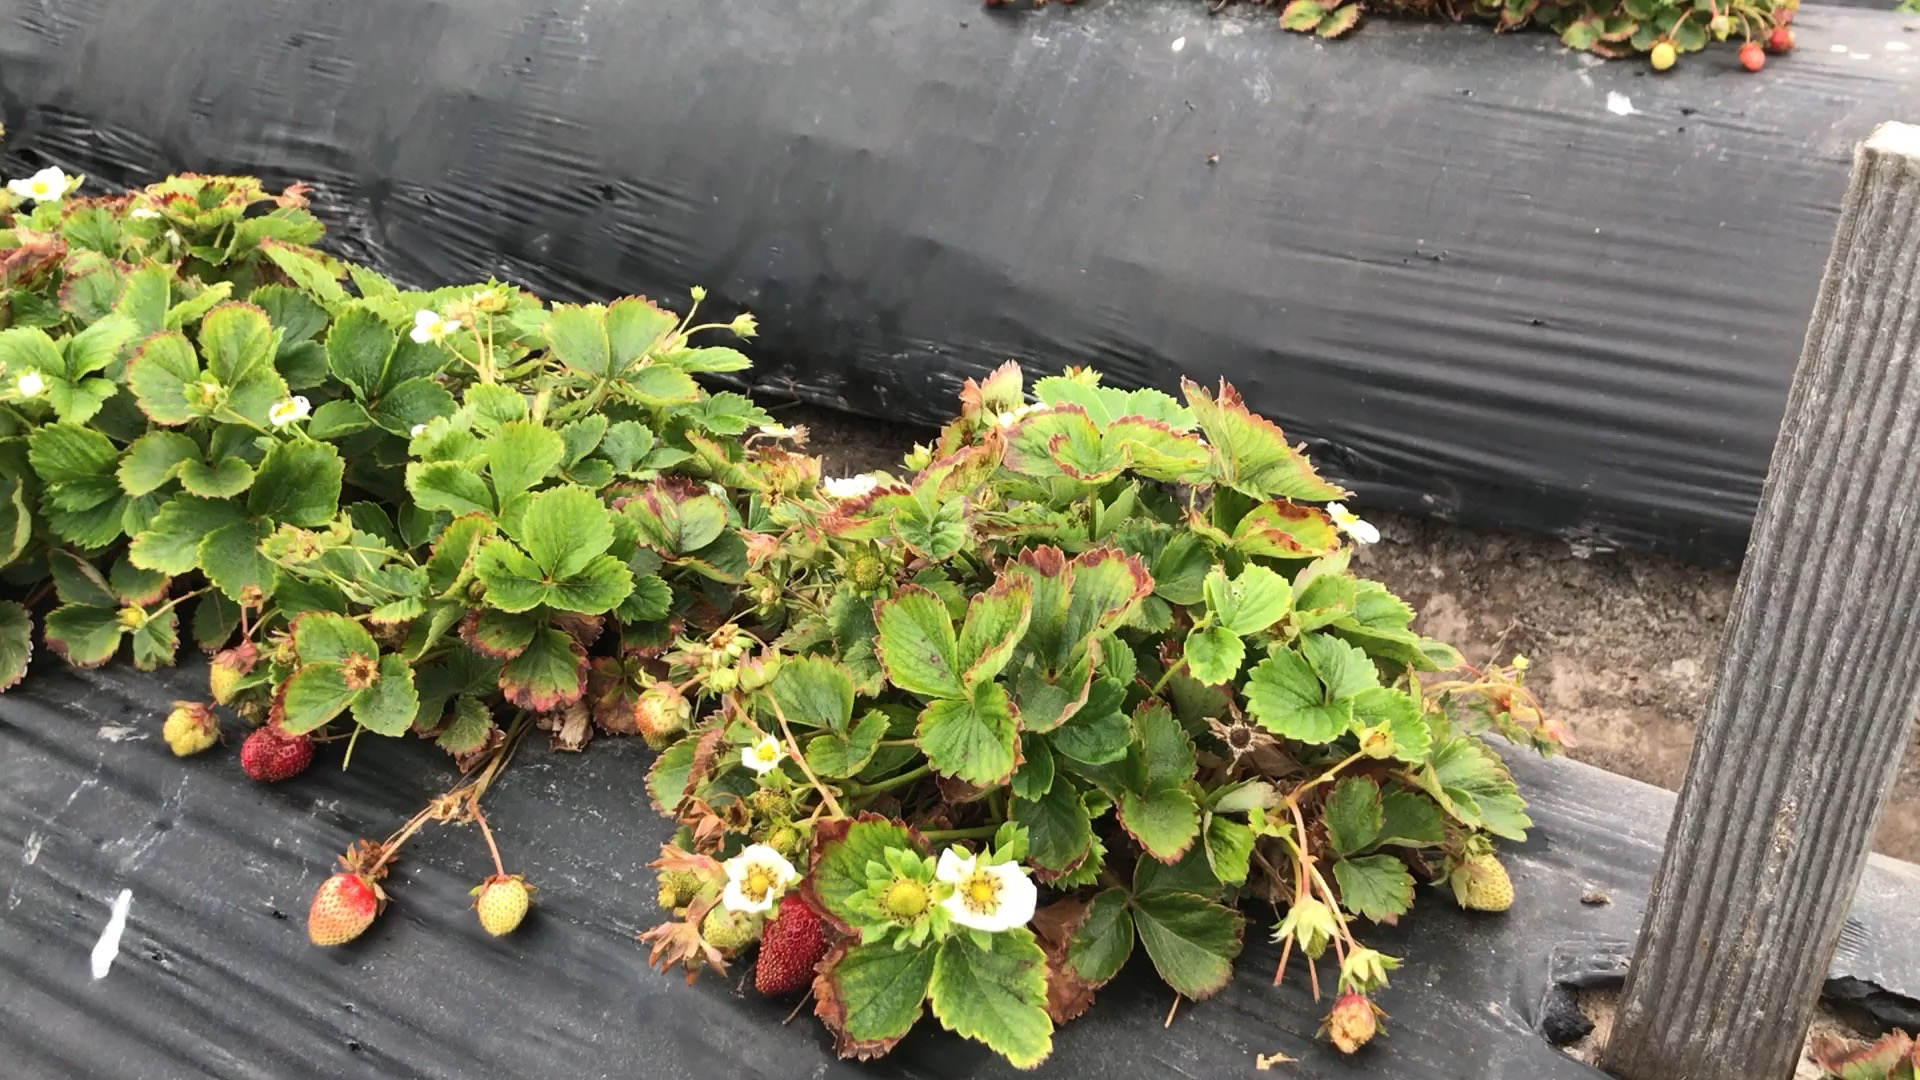ripe_strawberry: (752, 890, 833, 1006), (239, 721, 316, 786), (1767, 25, 1797, 55), (1737, 44, 1766, 74)
unripe_strawberry: (305, 866, 392, 951), (634, 679, 698, 756), (1451, 847, 1519, 916), (472, 873, 535, 943), (1325, 992, 1381, 1055), (1290, 891, 1336, 965), (164, 702, 218, 761), (702, 899, 761, 953), (204, 645, 258, 703), (756, 781, 796, 822), (770, 819, 804, 860), (1646, 38, 1683, 75)
